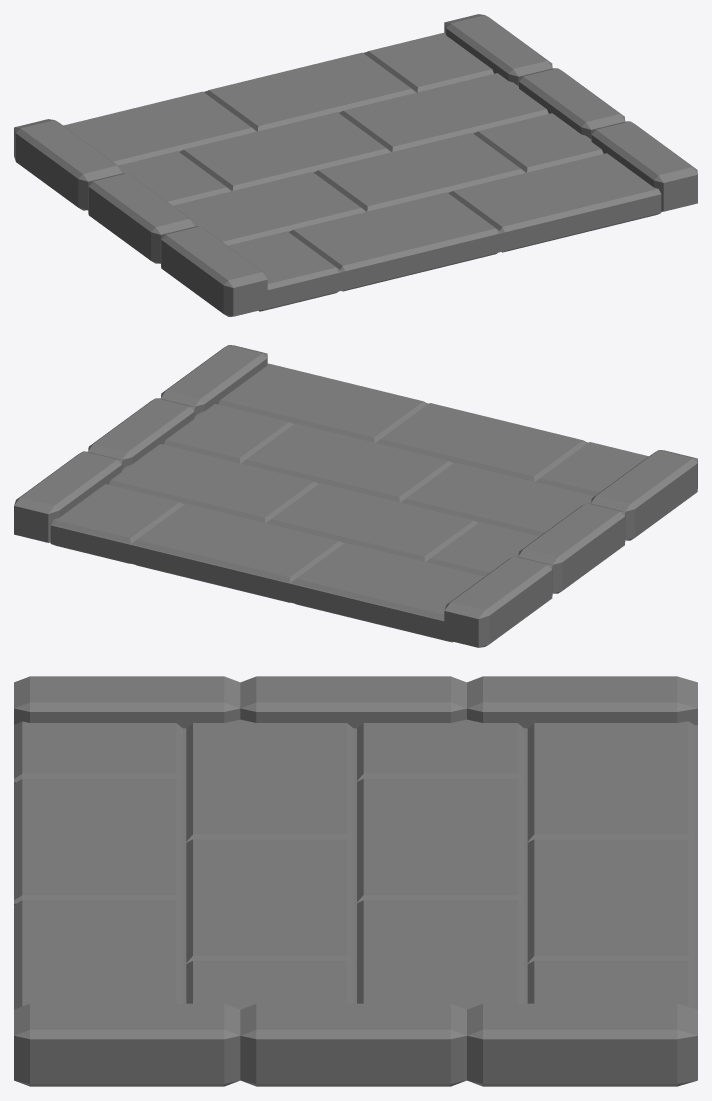
File: Straight tile.fbx
3 views of the same model, one above another, from view 1: azimuth 30°, elevation 25°; view 2: azimuth 150°, elevation 25°; view 3: azimuth 270°, elevation 25° (orthographic). The views are drawn at different scales.
Parts seen in each view (by area): view 1: Straight; view 2: Straight; view 3: Straight.
Part boxes in pixels (x1,y1,x2,y2): Straight: (14, 14, 697, 316); Straight: (14, 345, 697, 647); Straight: (14, 676, 697, 1086).
Bounding box in the file's own units: 376 × 27.86 × 302.
